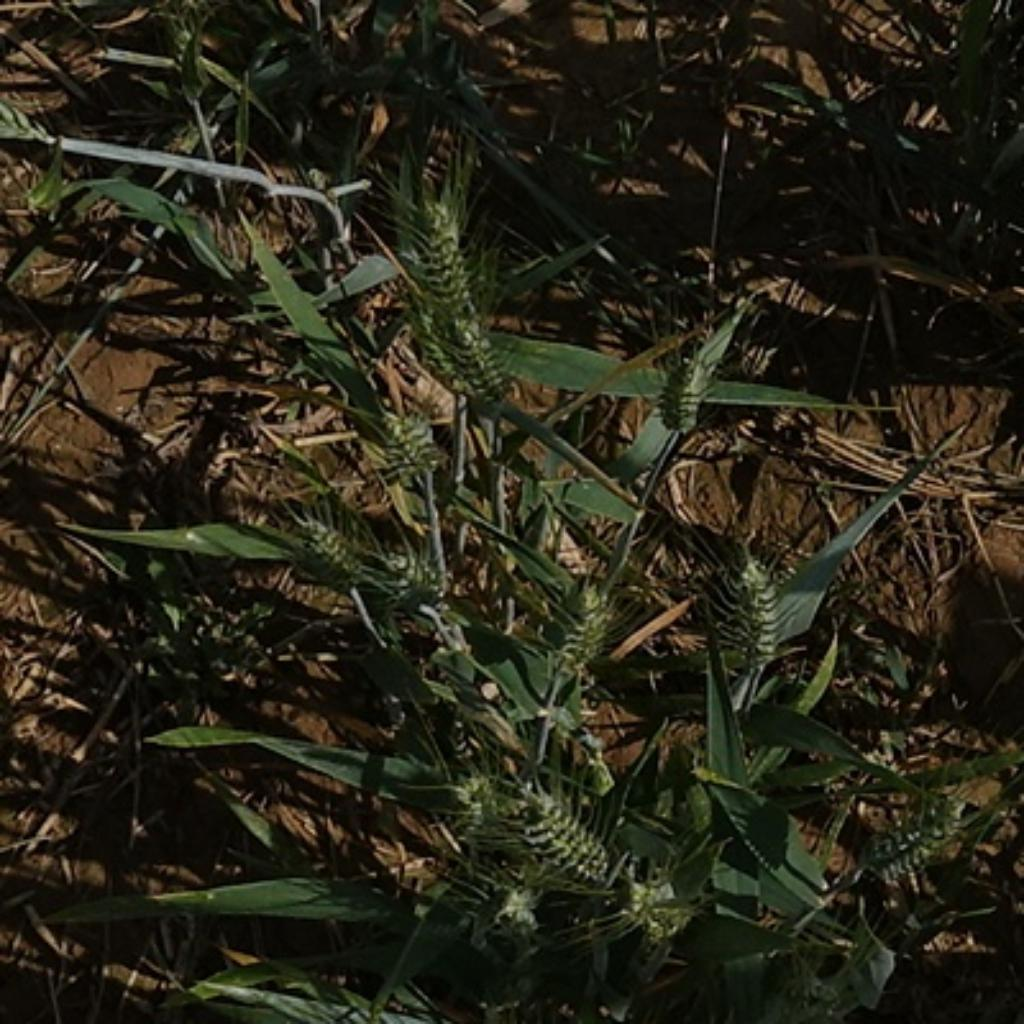0-0: (405, 191, 515, 401), (514, 778, 614, 883), (440, 765, 540, 862), (714, 550, 791, 668), (861, 808, 964, 891), (547, 573, 624, 670), (157, 0, 216, 112), (786, 945, 873, 1020), (286, 504, 366, 583), (620, 868, 698, 946), (373, 538, 448, 611), (369, 405, 441, 476), (657, 348, 709, 440), (492, 889, 548, 939)
